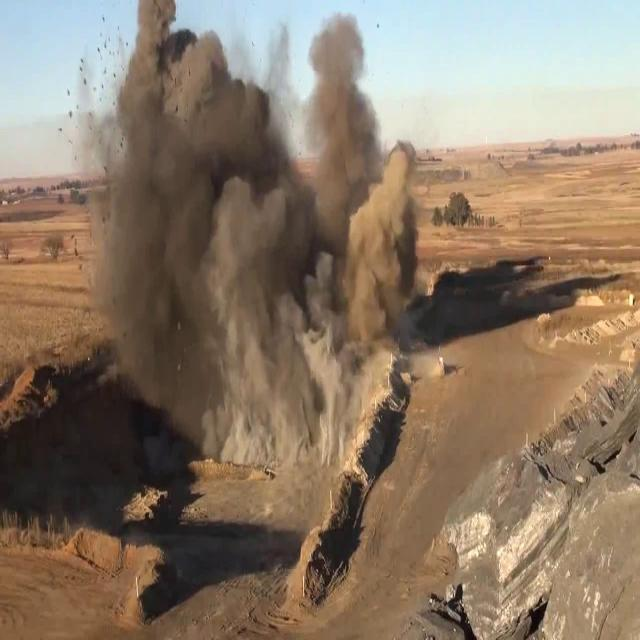explosion: (68, 9, 497, 569)
